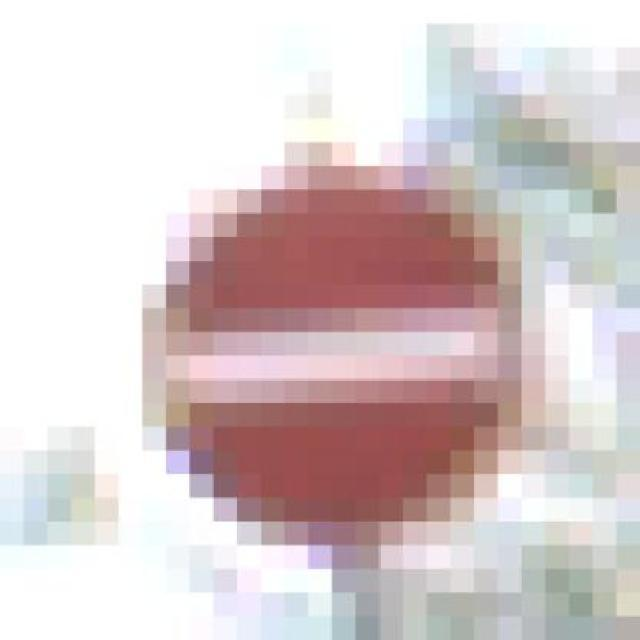B2: (150, 148, 526, 530)
